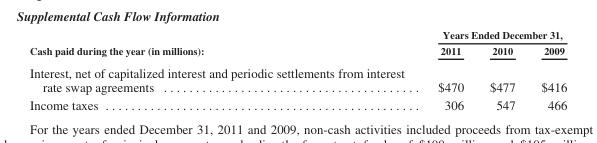table: (28, 28, 566, 112)
table column: (28, 28, 420, 112), (420, 28, 476, 112), (476, 28, 527, 112), (527, 28, 566, 112)
table column header: (28, 28, 566, 60)
table row: (28, 60, 566, 95), (28, 42, 566, 60), (28, 95, 566, 112), (28, 28, 566, 42)
table spanning cell: (28, 28, 420, 60), (420, 28, 566, 42)
